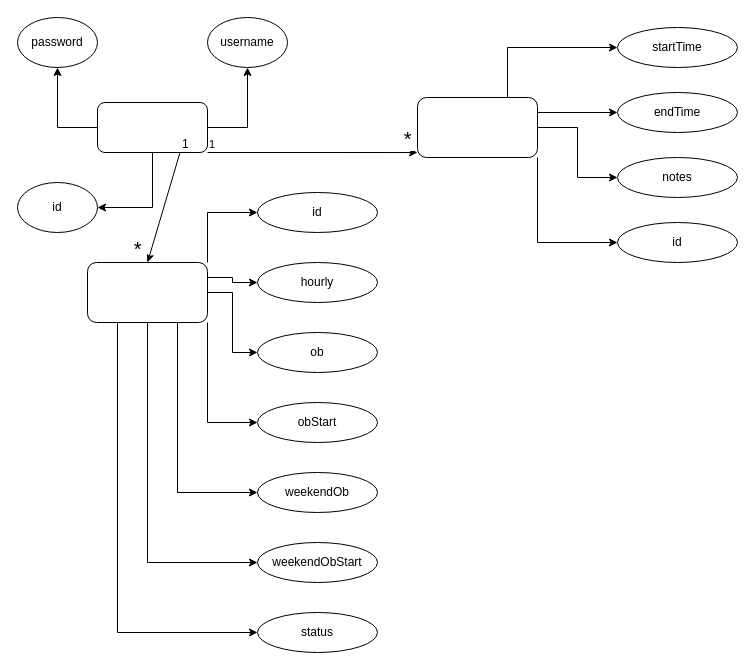
This 755x670 diagram has some shape labels left out. Each missing label, with the centre of its shape:
"salarySpec" goes at pixel 147 292.
"user" goes at pixel 152 127.
"workSession" goes at pixel 477 127.
